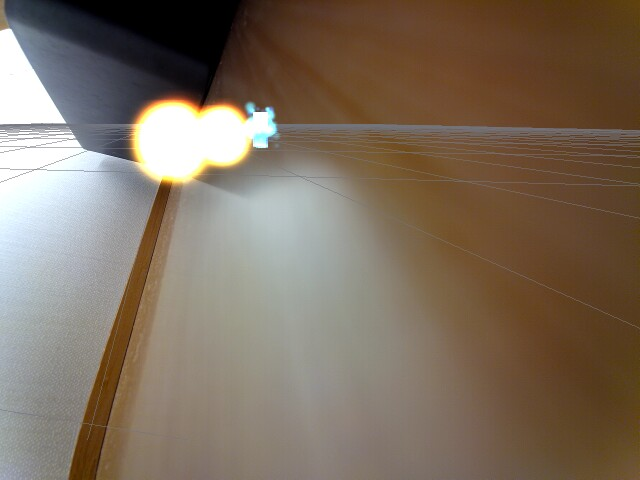firebig: (127, 101, 202, 187)
